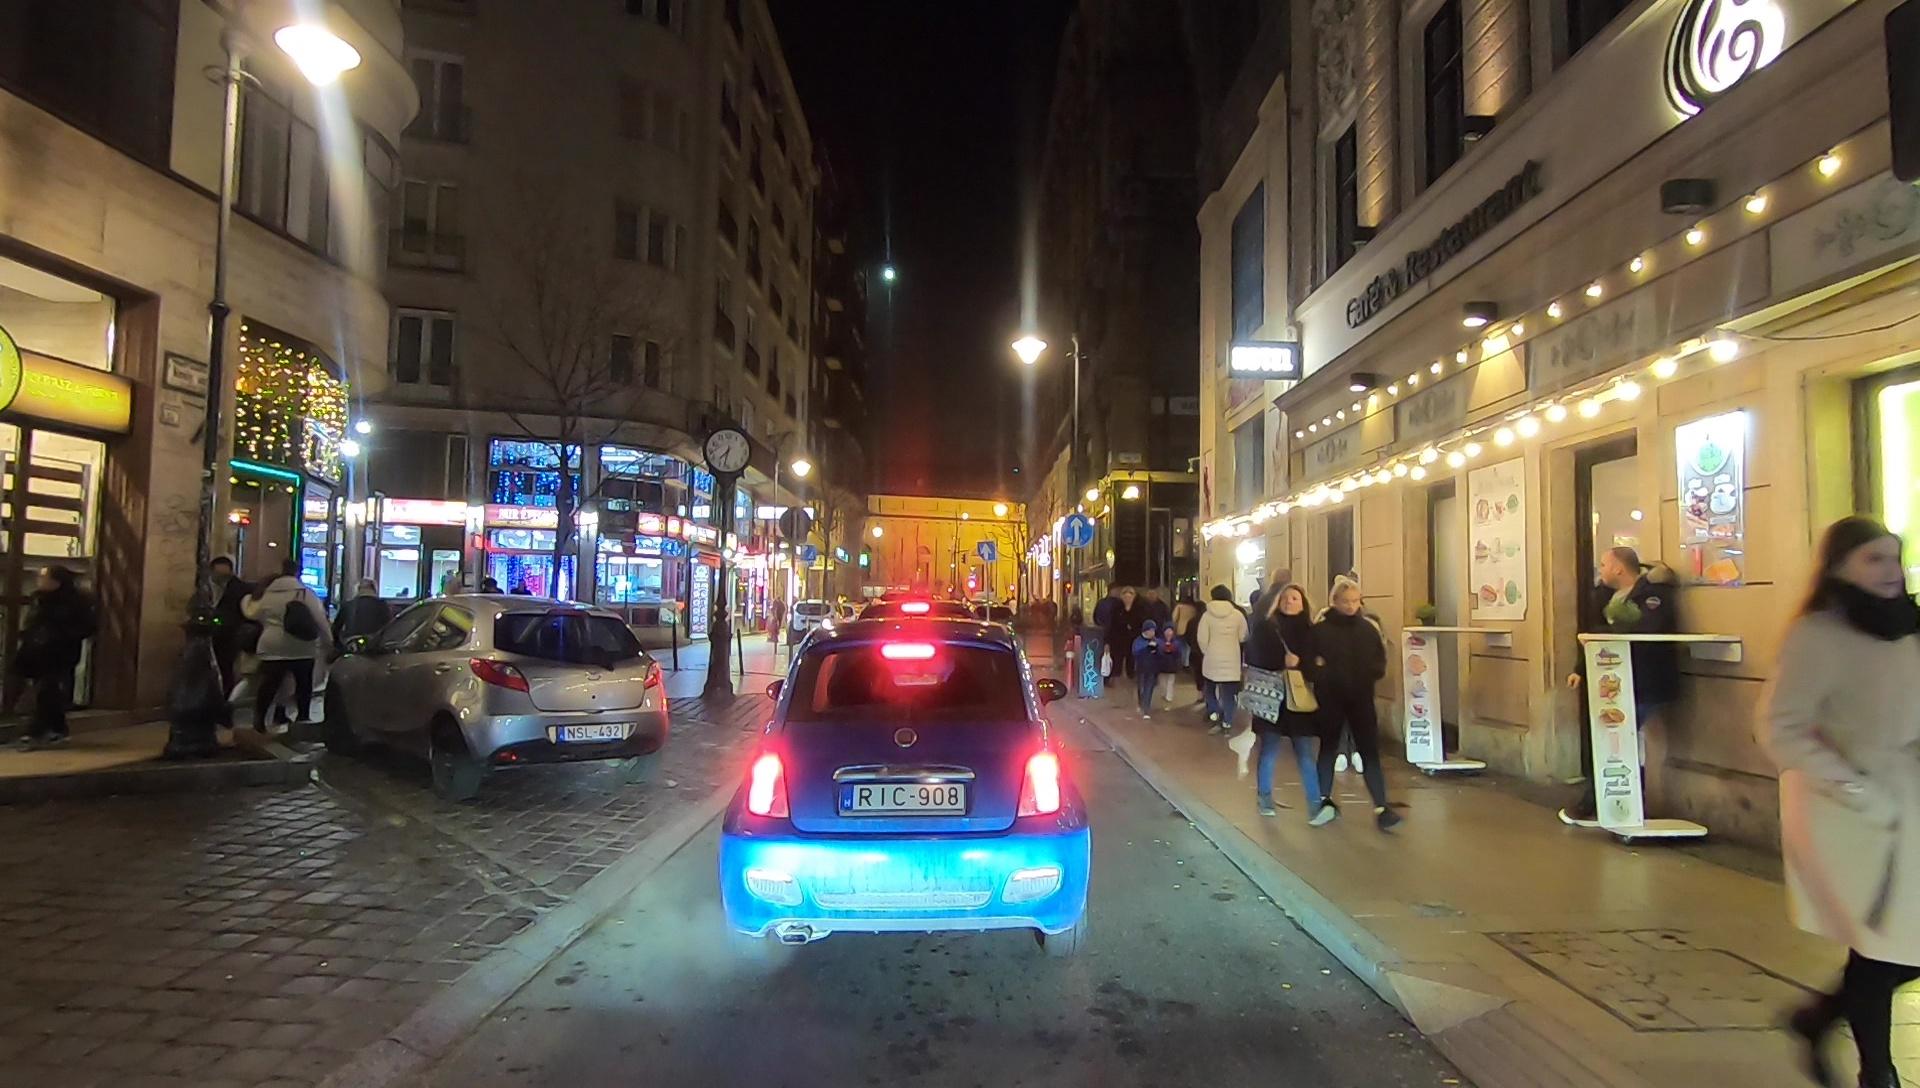person: (1789, 517, 1920, 1071), (1569, 554, 1671, 826), (1315, 571, 1406, 826), (1256, 584, 1326, 832), (28, 556, 95, 758), (201, 554, 258, 734), (260, 574, 323, 730), (343, 573, 382, 732), (1201, 589, 1245, 726), (1128, 589, 1165, 713), (1095, 582, 1126, 711)
